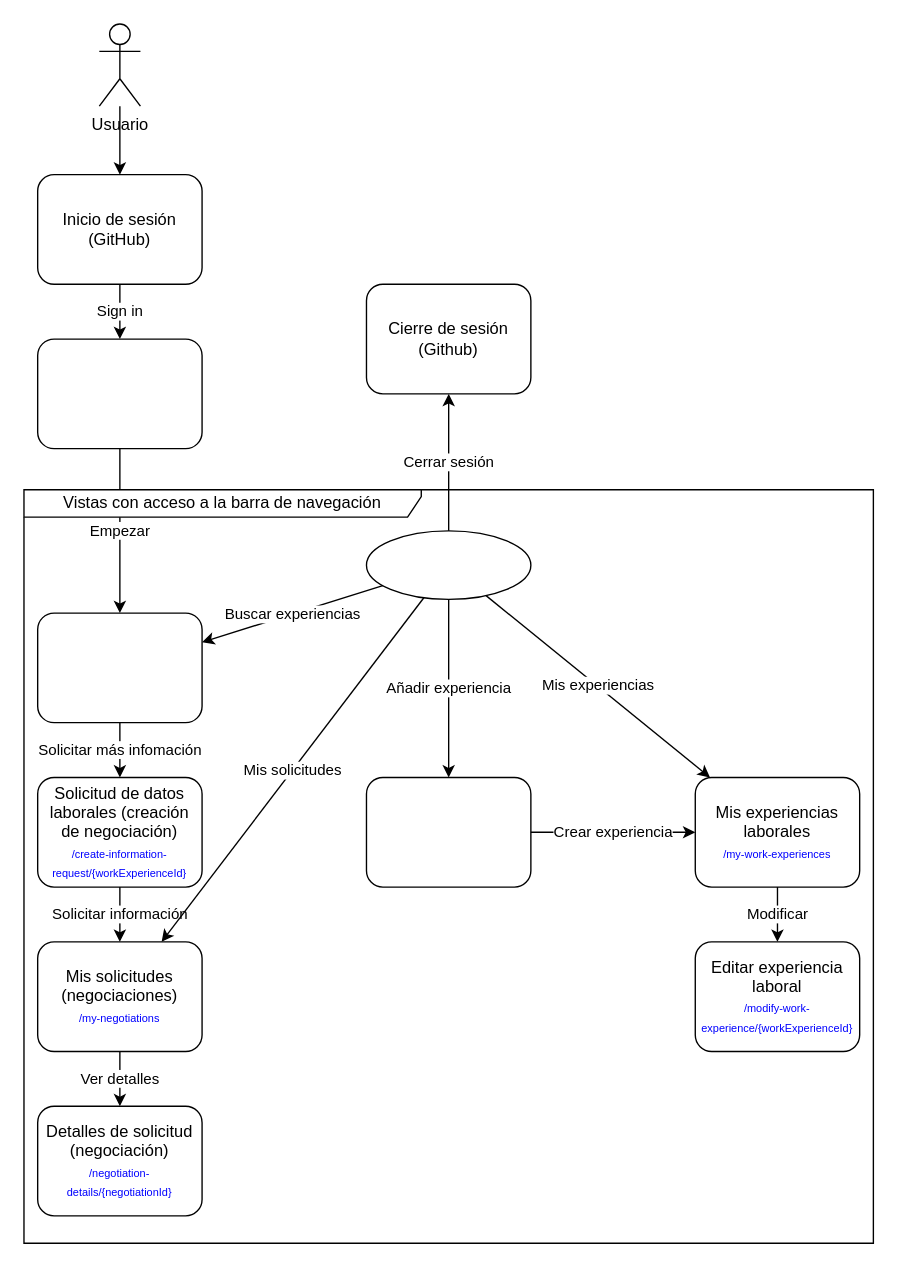
Some shapes in this 897 by 1267 pixel diagram are drawn without their labels. The centre of each missing label's shape, as x and y in pixels:
Bienvenida /: point 119,393
Búsqueda de experiencas laborales /search-work-experiences: point 119,667
Crear experiencia laboral /add-work-experience: point 448,831
NAVBAR: point 448,564
